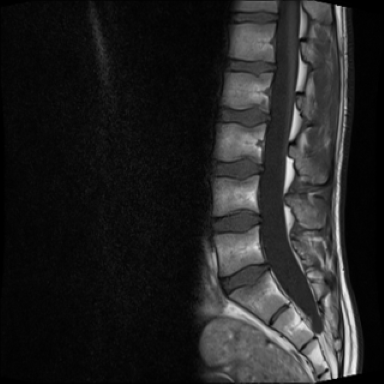Normal IVD: (217, 254, 272, 300), (208, 206, 267, 240), (206, 157, 267, 184), (211, 102, 273, 128), (222, 54, 279, 76), (224, 8, 282, 24)
